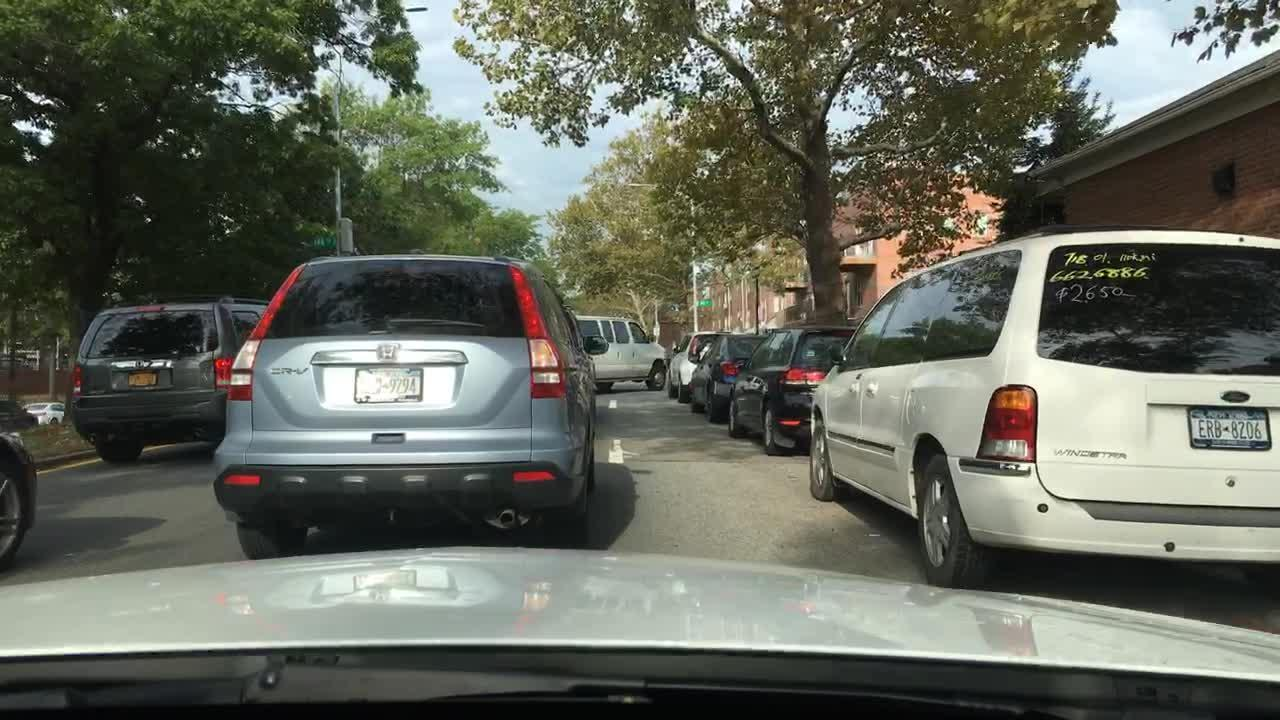Honda: (365, 338, 411, 370)
ford: (1216, 387, 1253, 409)
